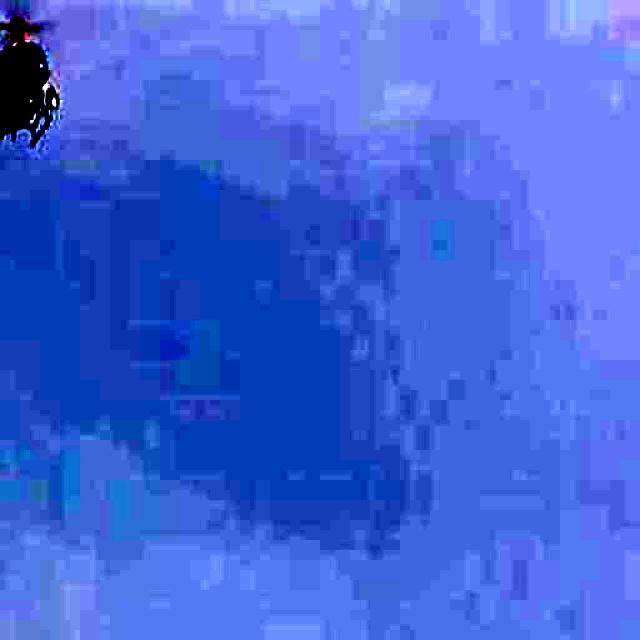drone: (0, 0, 109, 179)
